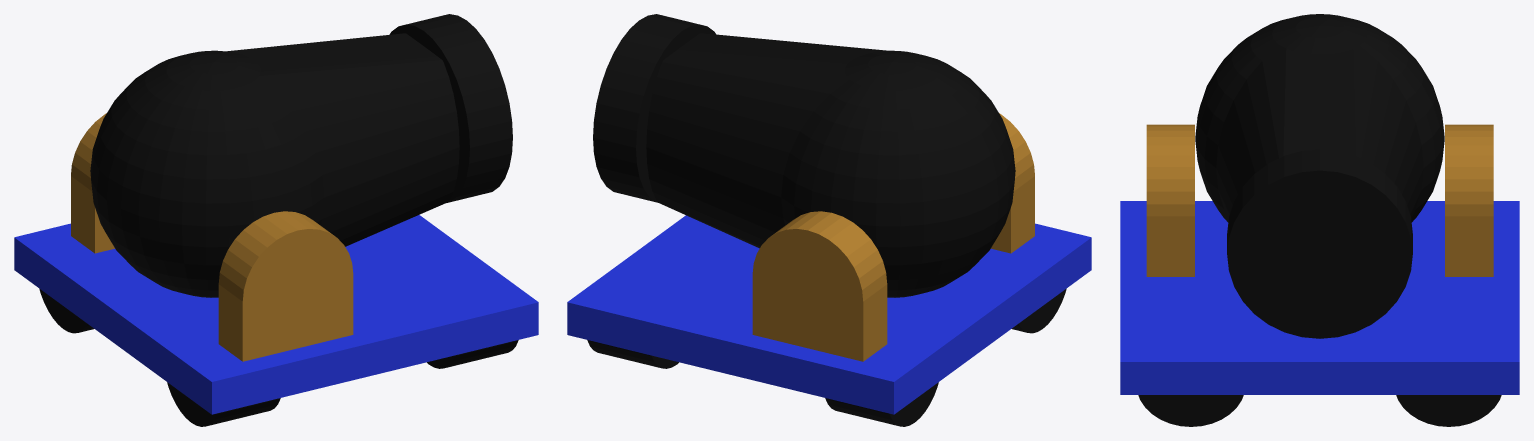
File: Cannon.fbx
3 renders of one model, left to right at view 1: azimuth 30°, elevation 25°; view 2: azimuth 150°, elevation 25°; view 3: azimuth 270°, elevation 25°, orthographic.
Parts seen in each view (by area): view 1: Base; view 2: Base; view 3: Base.
Part boxes in pixels (box(x1,y1,x2,y2)): Base: box(14, 14, 538, 426); Base: box(567, 14, 1091, 426); Base: box(1120, 14, 1519, 426).
Bounding box in the file's own units: 6.51 × 5.05 × 6.19.
